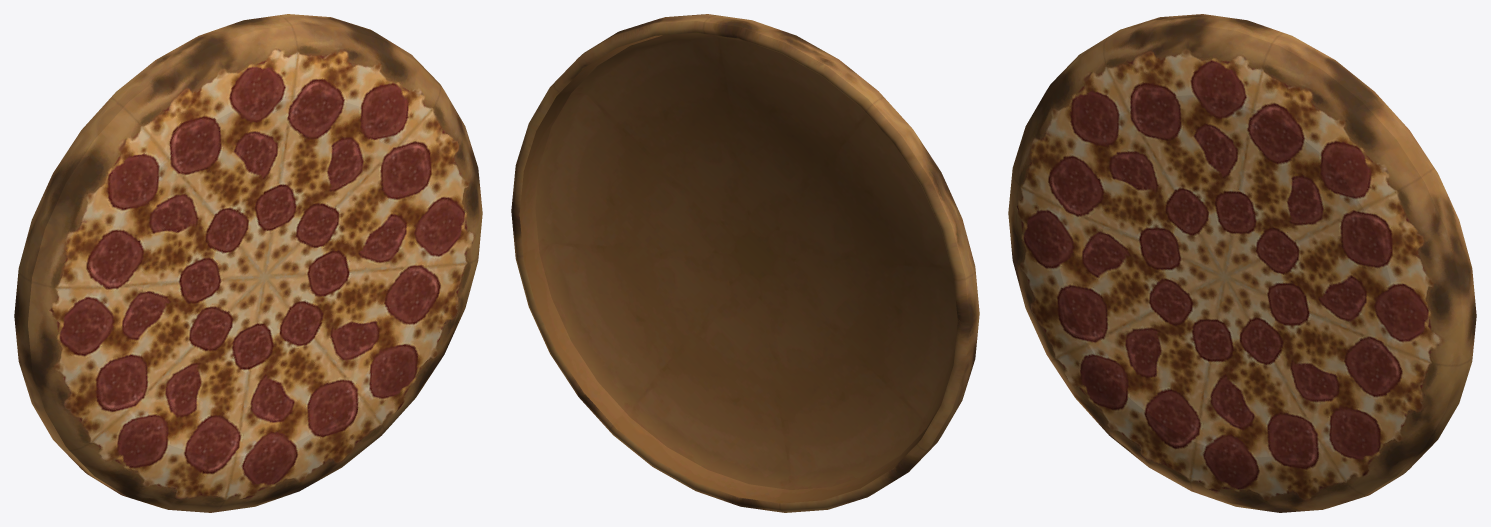
Rendered from pizza disc.glb.
The picture shows the model from 3 angles, left to right: view 1: azimuth 30°, elevation 25°; view 2: azimuth 150°, elevation 25°; view 3: azimuth 330°, elevation 25°; orthographic projection.
Parts seen in each view (by area): view 1: Frisbee_LOD0; view 2: Frisbee_LOD0; view 3: Frisbee_LOD0.
Boxes of the visible parts, box(x1,y1,x2,y2) form: Frisbee_LOD0: box(14, 14, 482, 512); Frisbee_LOD0: box(511, 14, 979, 512); Frisbee_LOD0: box(1008, 14, 1476, 512).
Size of the model in its own units: 0.3028 by 0.3028 by 0.0277.
1 material, 1 textured.
